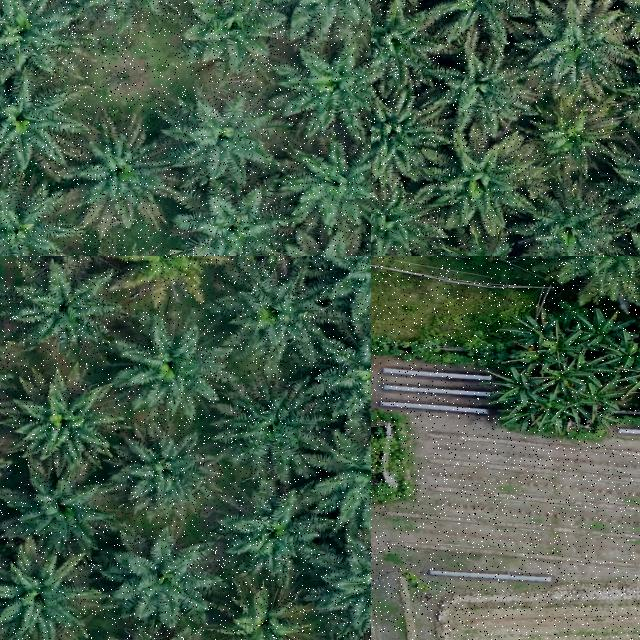Ganoderma: (127, 256, 205, 289)
